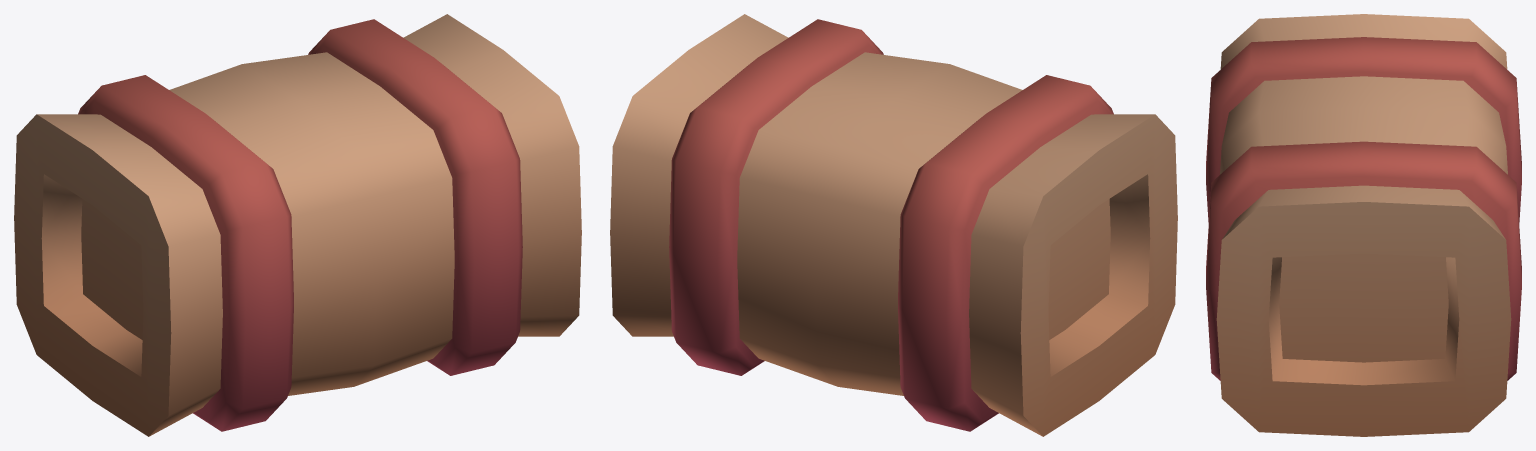
The model's file is hayB.glb.
3 views of the same model, side by side, from view 1: azimuth 30°, elevation 25°; view 2: azimuth 150°, elevation 25°; view 3: azimuth 270°, elevation 25° (orthographic). The views are drawn at different scales.
Visible parts, largest first — view 1: hay-bale-bundled-2; view 2: hay-bale-bundled-2; view 3: hay-bale-bundled-2.
Part boxes in pixels (<box>): hay-bale-bundled-2: <box>14,14,581,436</box>; hay-bale-bundled-2: <box>610,14,1177,436</box>; hay-bale-bundled-2: <box>1206,14,1521,436</box>.
Bounding box in the file's own units: 0.6066 × 0.3798 × 0.4312.
